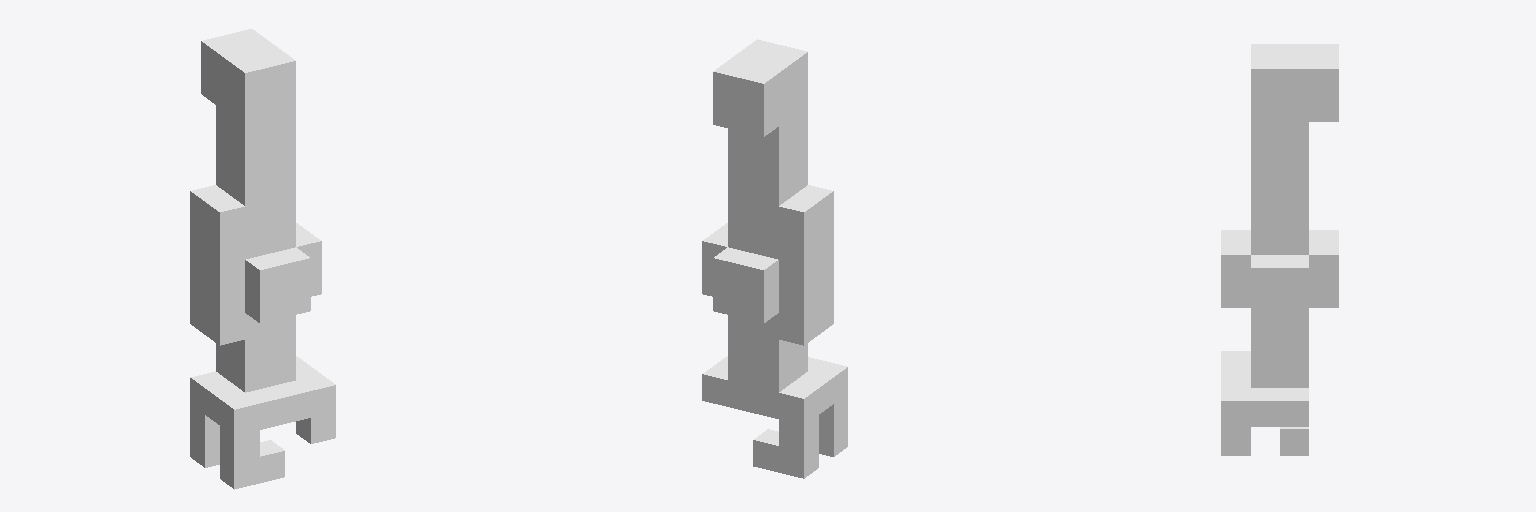
Rendered from EnemySkeleton2-5.obj.
The picture shows the model from 3 angles: view 1: azimuth 30°, elevation 25°; view 2: azimuth 150°, elevation 25°; view 3: azimuth 270°, elevation 25°; orthographic projection.
Parts seen in each view (by area): view 1: object 1; view 2: object 1; view 3: object 1.
Part boxes in pixels (bbox=[...]): object 1: bbox=[190, 29, 335, 489]; object 1: bbox=[702, 39, 847, 478]; object 1: bbox=[1221, 44, 1338, 455].
Size of the model in its own units: 0.4 by 1.5 by 0.4.